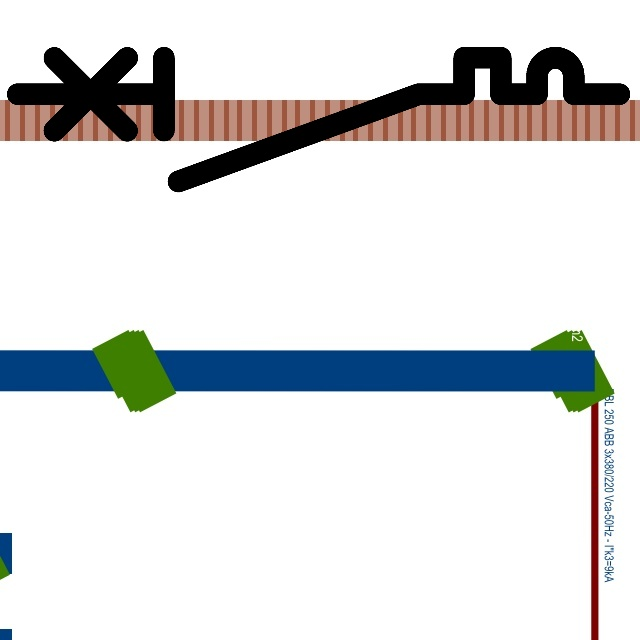interruptor_termomagnetico: (2, 42, 635, 197)
